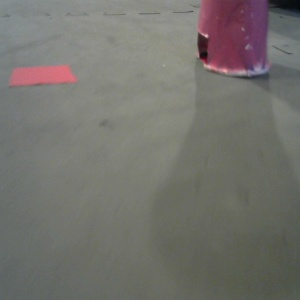middle: (1, 1, 83, 78)
